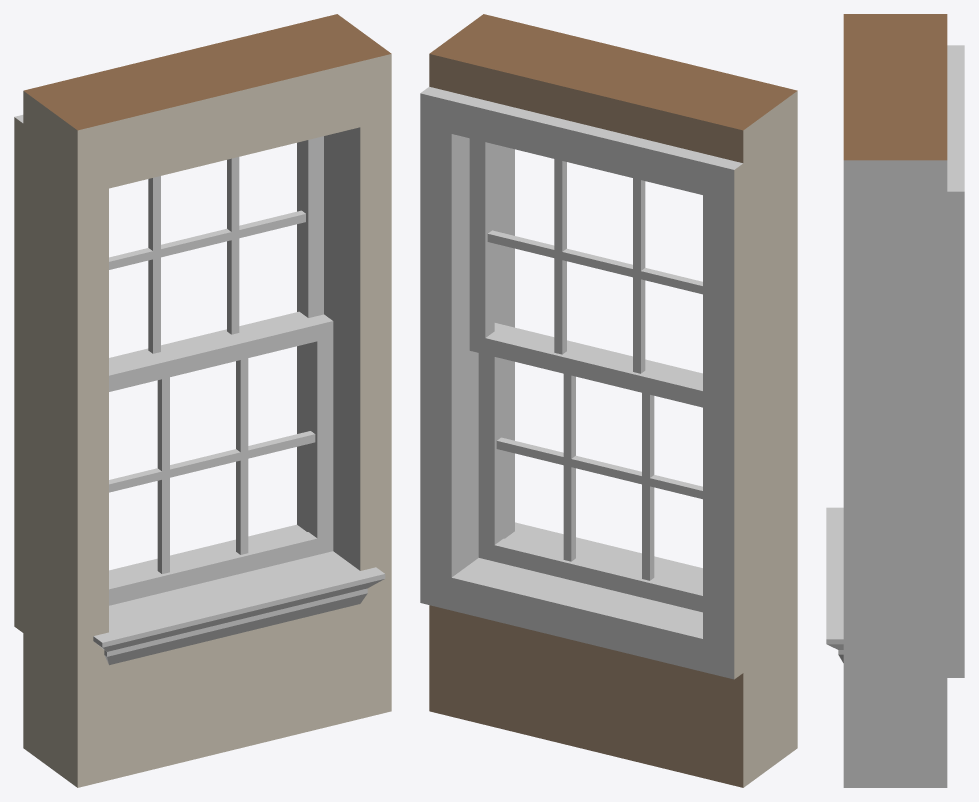
File: Exterior_Window_Single.obj
3 views of the same model, side by side, from view 1: azimuth 30°, elevation 25°; view 2: azimuth 150°, elevation 25°; view 3: azimuth 270°, elevation 25° (orthographic). The views are drawn at different scales.
Parts seen in each view (by area): view 1: object1, object3, object2; view 2: object1, object3, object2; view 3: object1.
Part boxes in pixels (x1,y1,x2,y2): object1: (14,14,391,787); object3: (109,314,333,605); object2: (109,136,323,366); object1: (420,14,797,787); object3: (478,323,702,612); object2: (469,138,702,407); object1: (826,14,964,787).
Size of the model in its own units: 1 by 2 by 0.4.
